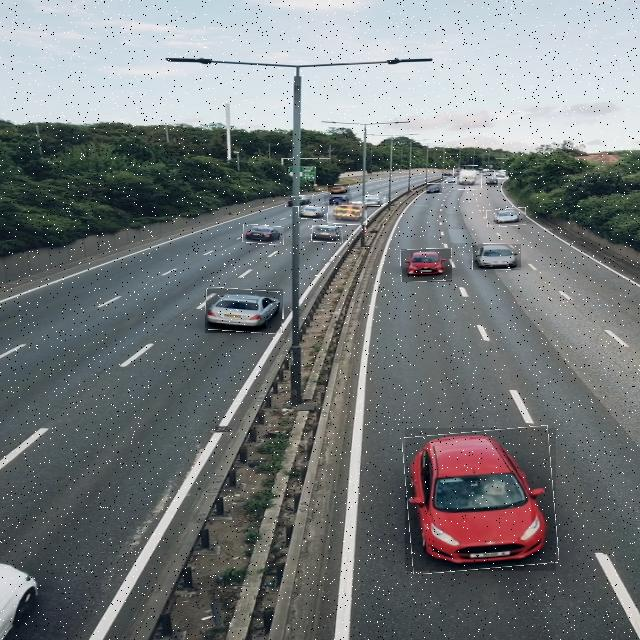Car: (405, 428, 556, 571), (206, 289, 284, 333), (401, 249, 452, 282), (472, 244, 521, 270), (243, 225, 284, 244), (487, 208, 526, 227), (454, 166, 482, 190), (312, 225, 343, 243), (298, 206, 327, 220), (324, 194, 352, 207), (285, 195, 313, 207), (328, 184, 350, 195), (362, 196, 386, 206), (426, 184, 442, 194), (494, 170, 508, 179), (443, 176, 457, 184), (486, 177, 498, 186)
Truck: (328, 201, 367, 225)
